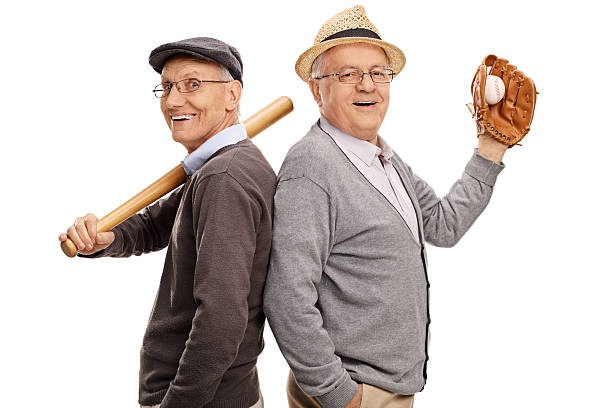bita: (67, 163, 194, 265), (244, 98, 293, 142)
